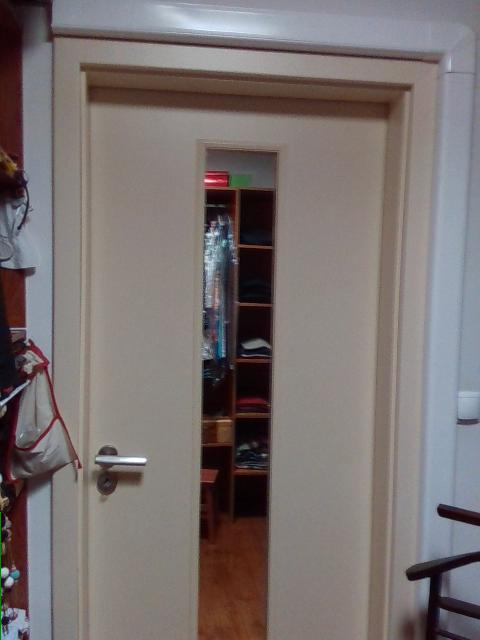door: (44, 26, 438, 639)
